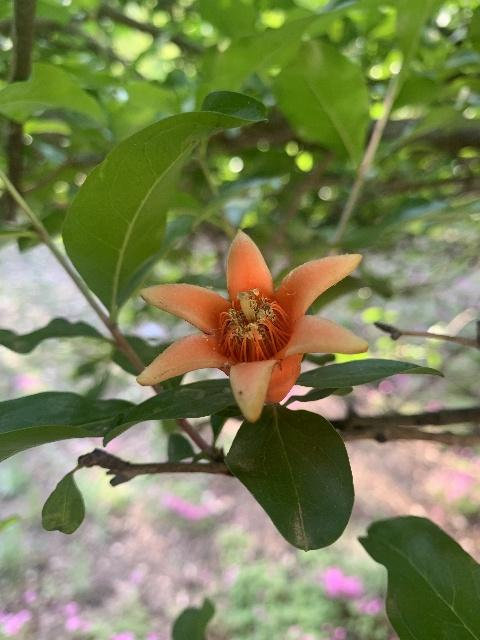flower: (137, 232, 367, 423)
